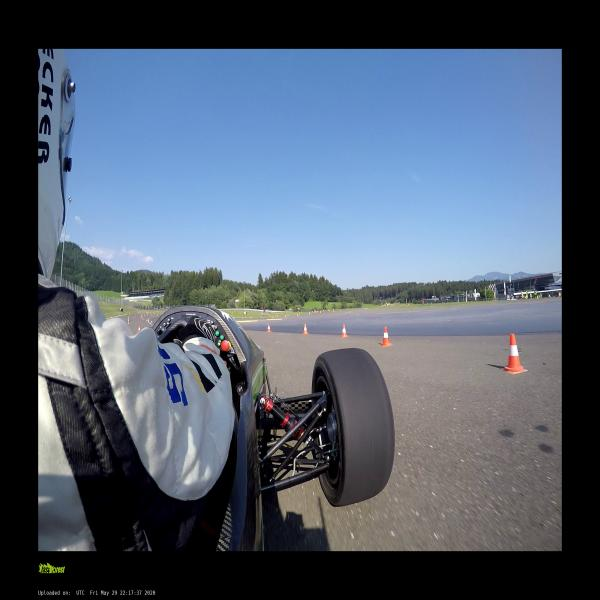orange_cone: (500, 334, 528, 374), (381, 327, 393, 347), (340, 324, 348, 338), (266, 324, 272, 333), (303, 324, 308, 334), (138, 325, 140, 332)
